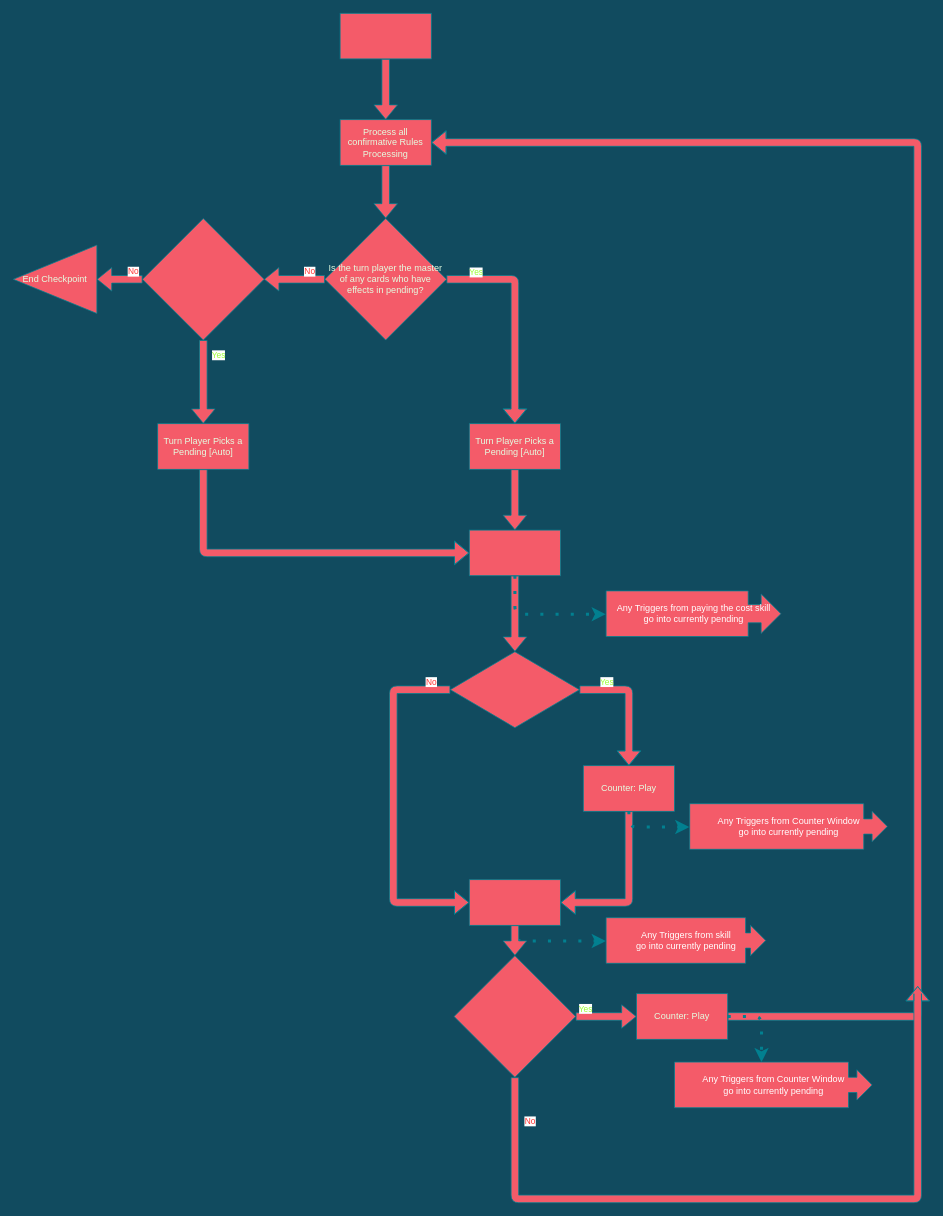
The diagram is 943 pixels wide and 1216 high, and some of its shapes have lost their labels. Here are the shapes that lost their labels. From the top down, the centre of each, then its label:
the point at 385,36: Start
the point at 203,279: Is the non-turn player the master of any cards who have effects in pending?
the point at 514,552: Master Pays Cost of skill
the point at 515,689: Does the skill have the option to "Play" a card?
the point at 514,902: Resolve Skill
the point at 514,1016: Did you play a card?
